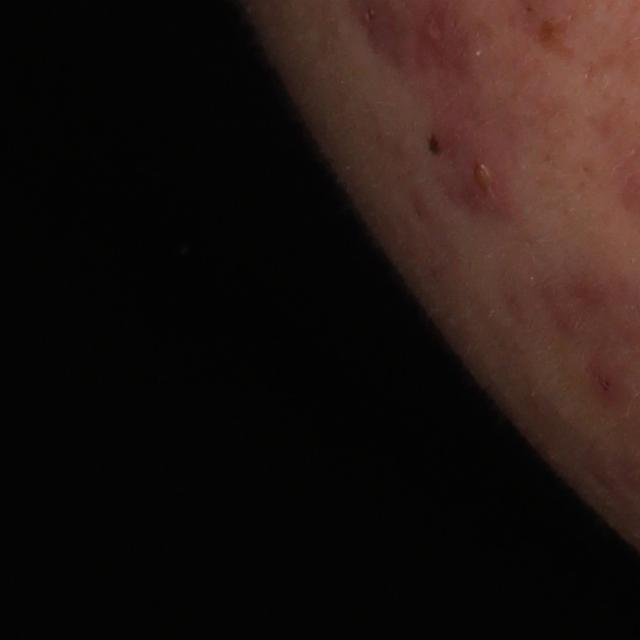nevus: (423, 131, 443, 159)
